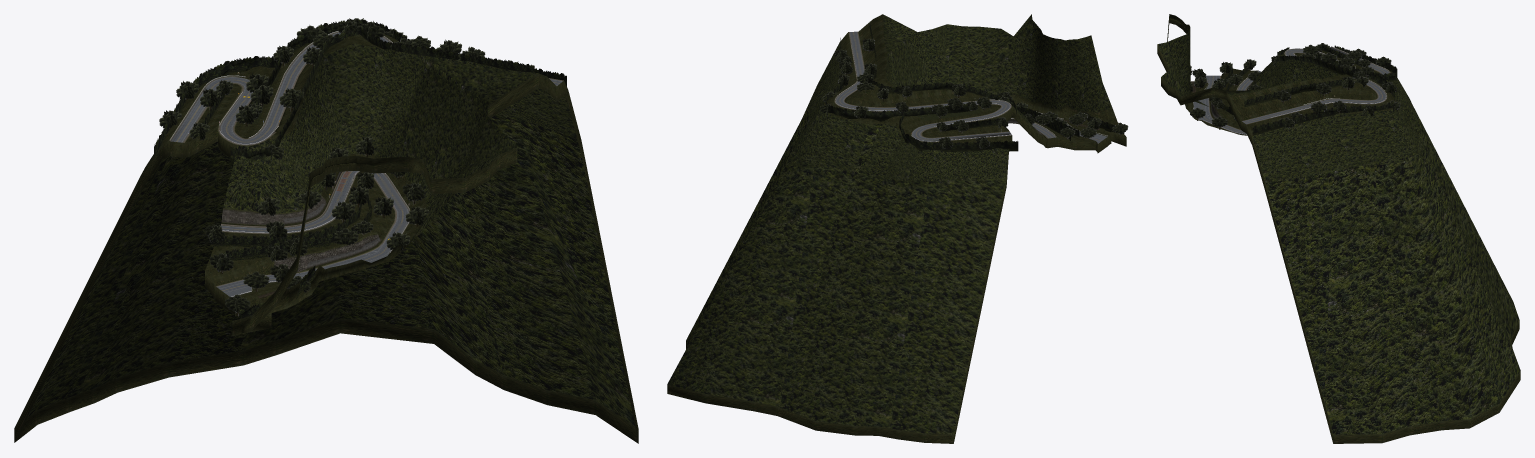
The model's file is akina4.glb.
3 views of the same model, side by side, from view 1: azimuth 30°, elevation 25°; view 2: azimuth 150°, elevation 25°; view 3: azimuth 270°, elevation 25° (orthographic). The views are drawn at different scales.
Visible parts, largest first — view 1: akina4; view 2: akina4; view 3: akina4.
Boxes of the visible parts, bbox=[...] form: akina4: bbox=[14, 18, 638, 443]; akina4: bbox=[667, 14, 1128, 443]; akina4: bbox=[1157, 14, 1520, 443].
Size of the model in its own units: 362 by 312 by 352.
Materials: 17 (17 with a texture image).
